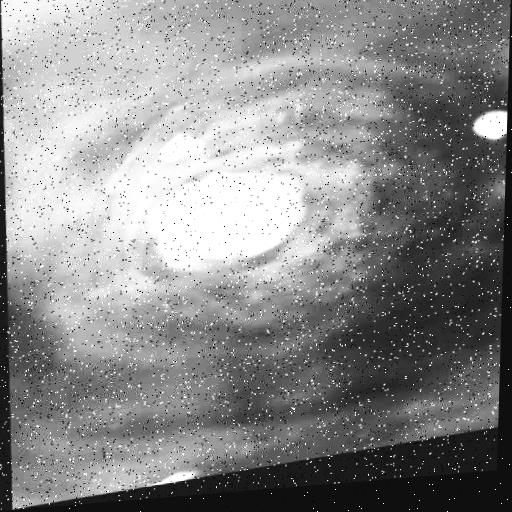balloon: (466, 118, 507, 154), (156, 137, 203, 167)
